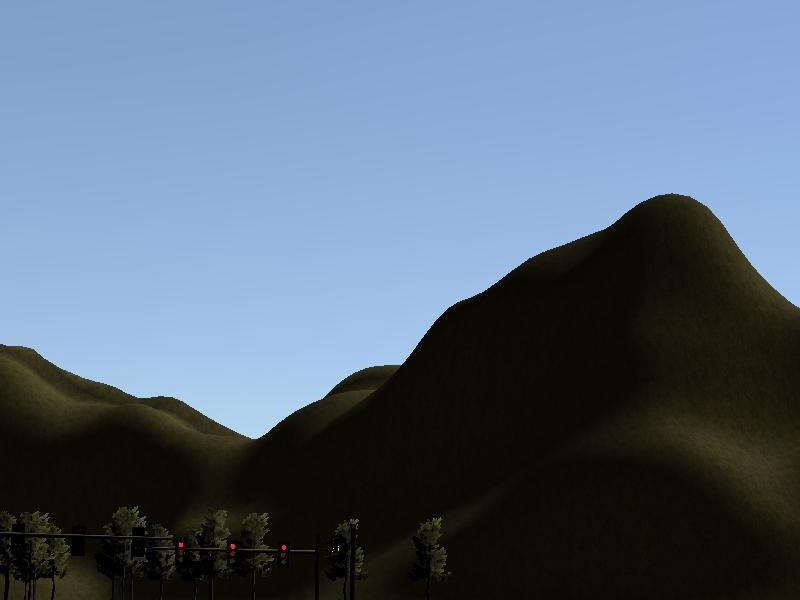RED: (276, 540, 290, 572), (174, 536, 187, 567), (225, 540, 239, 568)
